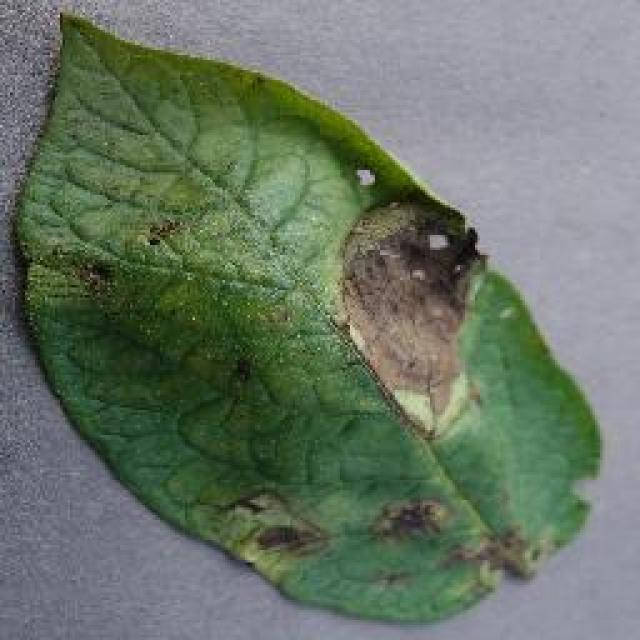Potato___Late_blight: (0, 2, 615, 640)
